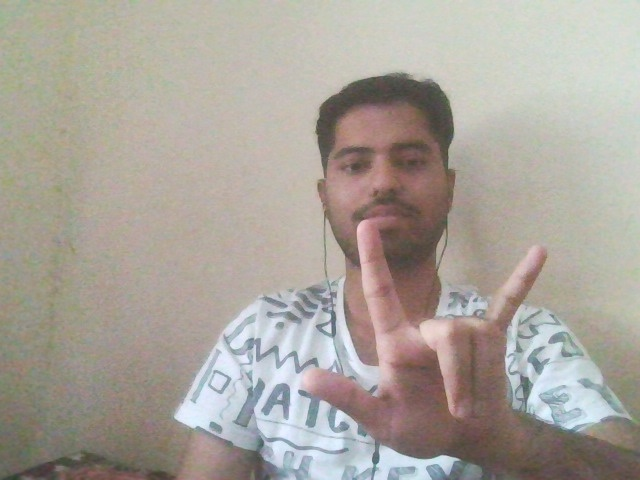IloveYou: (285, 220, 571, 455)
